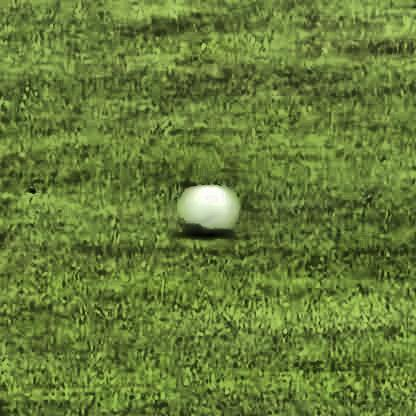golfball: (179, 186, 235, 234)
